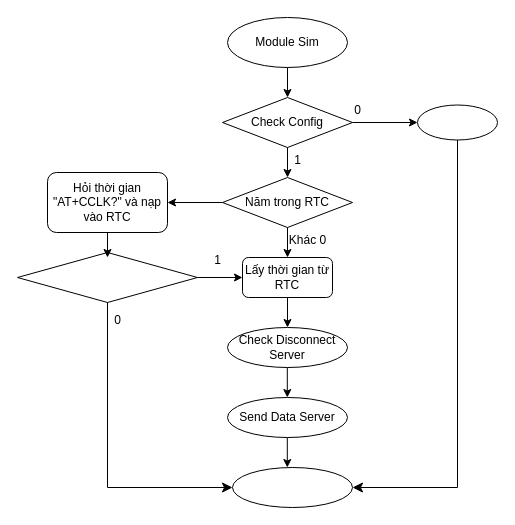
Image size: 515x525. Some labels were removed from this diagram. The centre of each missing label's shape, as x and y in pixels:
"Config SIM" belongs at point (457, 122).
"Hoàn thành lấy thời gian" belongs at point (107, 277).
"Kết thúc" belongs at point (292, 487).
